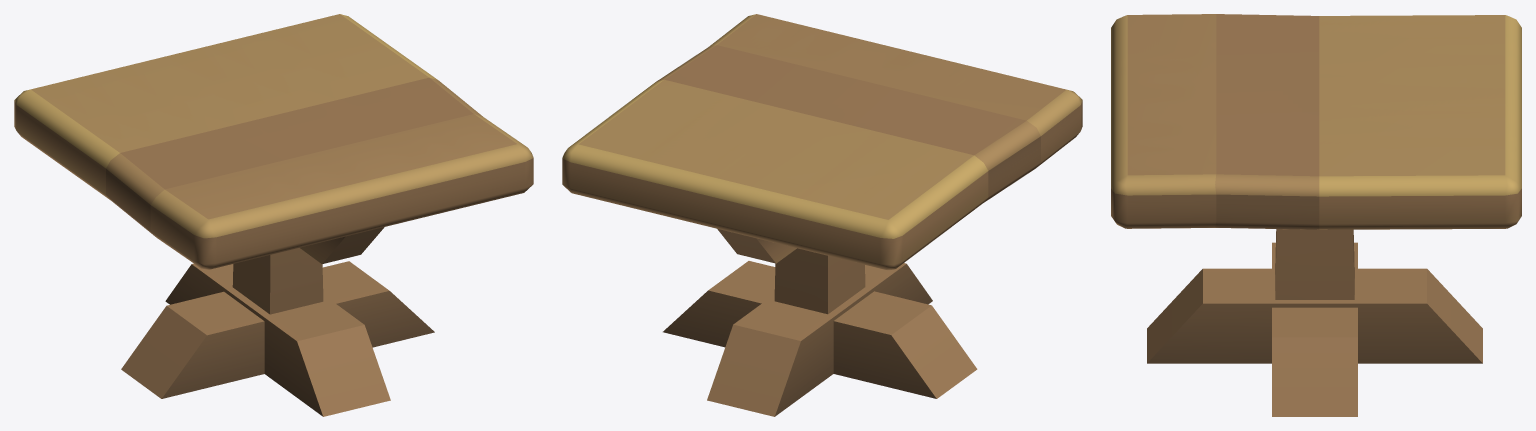
File: table3_LOD_setup.fbx
3 views of the same model, side by side, from view 1: azimuth 30°, elevation 25°; view 2: azimuth 150°, elevation 25°; view 3: azimuth 270°, elevation 25° (orthographic). The views are drawn at different scales.
Visible parts, largest first — view 1: table3_LOD0; view 2: table3_LOD0; view 3: table3_LOD0.
Boxes of the visible parts, x1=… form: table3_LOD0: x1=14, y1=14, x2=533, y2=416; table3_LOD0: x1=562, y1=14, x2=1082, y2=416; table3_LOD0: x1=1111, y1=14, x2=1521, y2=416.
Size of what is drawn, in the model's own units: 104 by 68.43 by 102.
